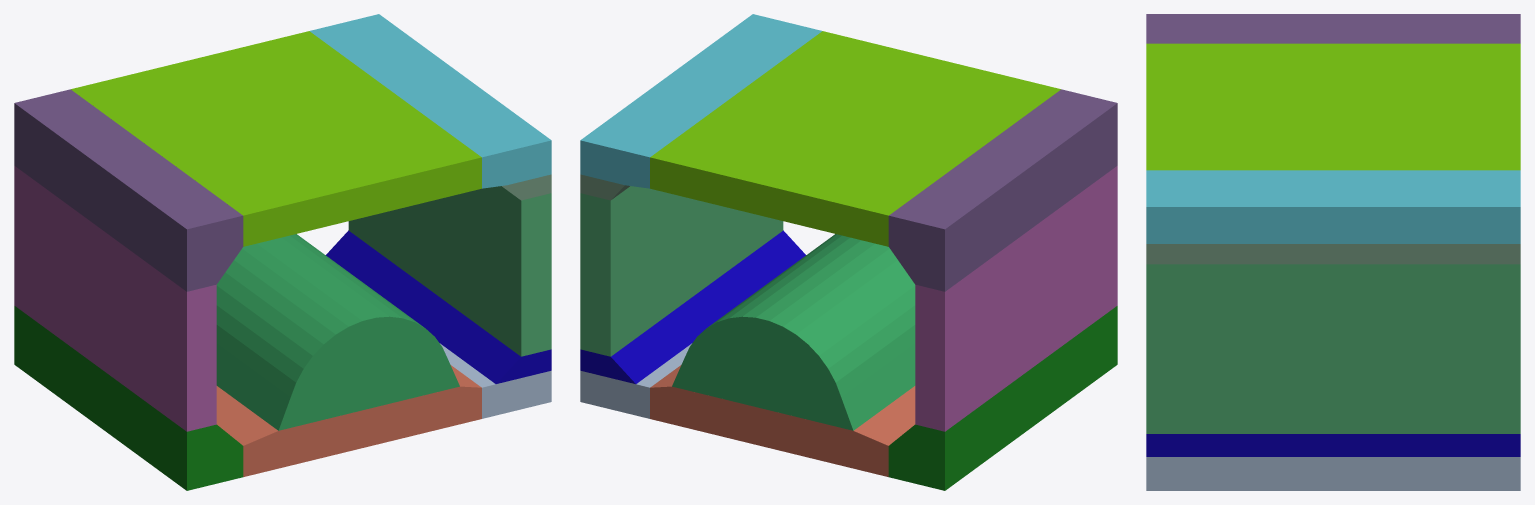
The model's file is hole_8.obj.
The picture shows the model from 3 angles, left to right: view 1: azimuth 30°, elevation 25°; view 2: azimuth 150°, elevation 25°; view 3: azimuth 270°, elevation 25°; orthographic projection. The views are drawn at different scales.
Parts seen in each view (by area): view 1: geometry_4, geometry_10, geometry_7, geometry_1, geometry_3, geometry_2, geometry_8, geometry_9, geometry_5, geometry_6, geometry_0; view 2: geometry_4, geometry_10, geometry_7, geometry_1, geometry_3, geometry_2, geometry_8, geometry_9, geometry_5, geometry_6, geometry_0; view 3: geometry_3, geometry_4, geometry_2, geometry_6, geometry_1, geometry_5, geometry_0.
Part boxes in pixels (x1,y1,x2,y2): geometry_4: [71, 31, 481, 246]; geometry_10: [216, 234, 459, 430]; geometry_7: [14, 166, 216, 431]; geometry_1: [14, 89, 243, 291]; geometry_3: [348, 186, 551, 356]; geometry_2: [309, 14, 551, 188]; geometry_8: [14, 306, 243, 490]; geometry_9: [216, 365, 481, 476]; geometry_5: [326, 230, 551, 383]; geometry_6: [440, 343, 551, 418]; geometry_0: [502, 174, 551, 200]; geometry_4: [650, 31, 1060, 246]; geometry_10: [672, 234, 915, 430]; geometry_7: [915, 166, 1117, 431]; geometry_1: [888, 89, 1117, 291]; geometry_3: [580, 186, 783, 356]; geometry_2: [580, 14, 822, 188]; geometry_8: [888, 306, 1117, 490]; geometry_9: [650, 365, 915, 476]; geometry_5: [580, 230, 805, 383]; geometry_6: [580, 343, 691, 418]; geometry_0: [580, 174, 629, 200]; geometry_3: [1146, 264, 1520, 433]; geometry_4: [1146, 43, 1520, 170]; geometry_2: [1146, 170, 1520, 243]; geometry_6: [1146, 457, 1520, 490]; geometry_1: [1146, 14, 1520, 43]; geometry_5: [1146, 434, 1520, 456]; geometry_0: [1146, 244, 1520, 264].
Size of the model in its own units: 0.061 by 0.0418 by 0.05.
